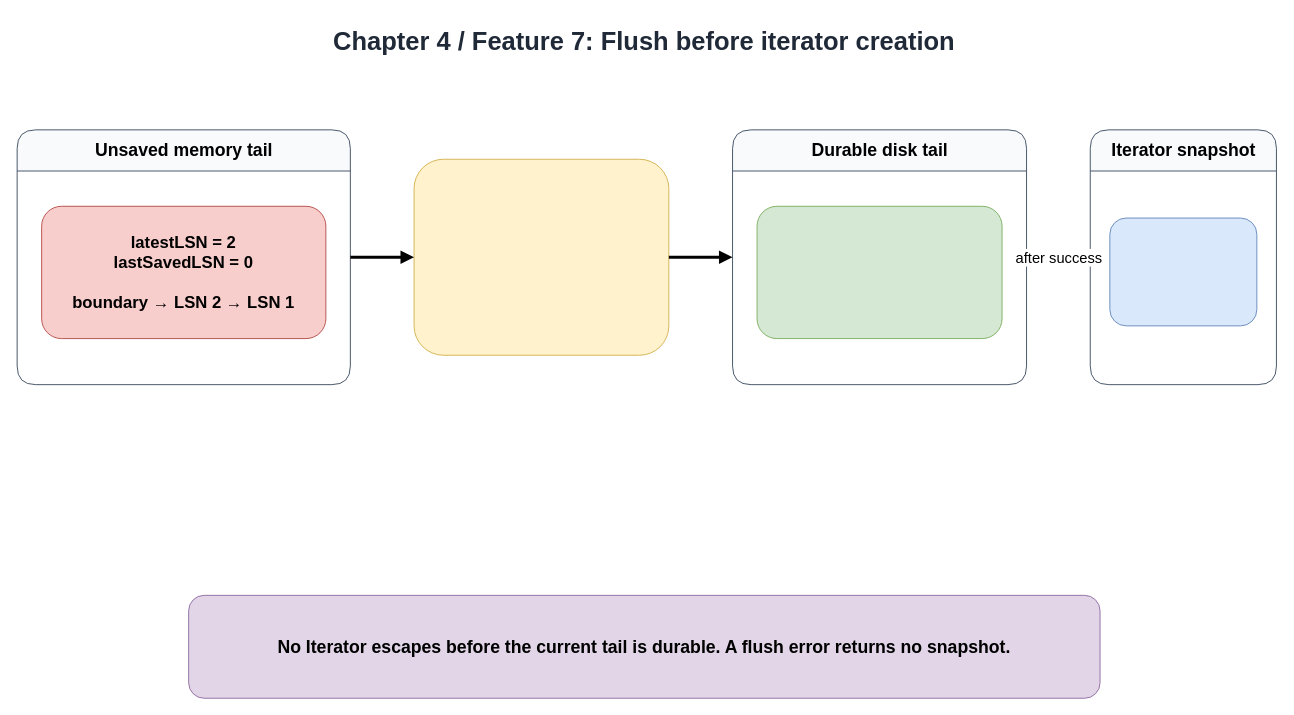
This 1294x715 diagram has some shape labels left out. The centre of each missing label's shape, as x and y in pixels:
"copy the same current Page" belongs at point 1183,271.
"Iterator() holds mutex flushTailLocked(2) write + sync Page" belongs at point 541,256.
"lastSavedLSN = 2 boundary → LSN 2 → LSN 1" belongs at point 879,272.
